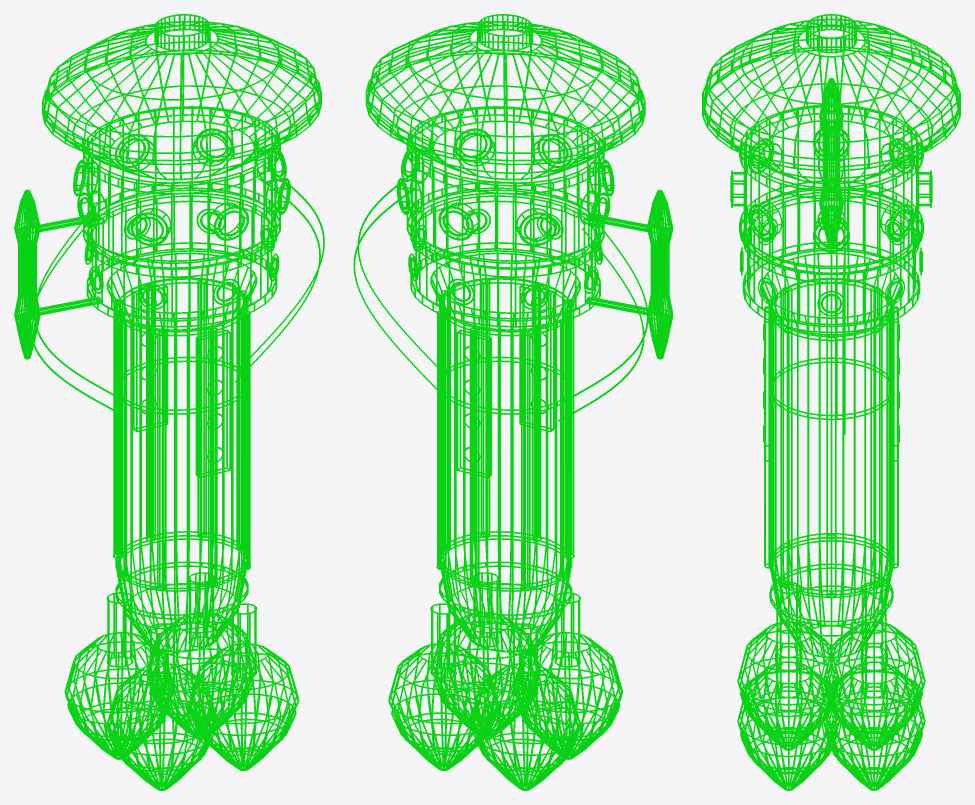
Rendered from mk2-deep-bore-mine-wireframe.glb.
3 renders of one model, left to right at view 1: azimuth 30°, elevation 25°; view 2: azimuth 150°, elevation 25°; view 3: azimuth 270°, elevation 25°, orthographic.
Visible parts, largest first — view 1: chassis technical wire, drill-assemblies technical wire, coolant-connectors technical wire, radio-seismic-probe technical wire; view 2: chassis technical wire, drill-assemblies technical wire, coolant-connectors technical wire, radio-seismic-probe technical wire; view 3: chassis technical wire, drill-assemblies technical wire, coolant-connectors technical wire, radio-seismic-probe technical wire.
Boxes of the visible parts, x1=… form: chassis technical wire: x1=30, y1=14, x2=324, y2=698; drill-assemblies technical wire: x1=64, y1=612, x2=299, y2=790; coolant-connectors technical wire: x1=73, y1=128, x2=290, y2=245; radio-seismic-probe technical wire: x1=14, y1=189, x2=40, y2=359; chassis technical wire: x1=353, y1=14, x2=651, y2=698; drill-assemblies technical wire: x1=388, y1=612, x2=622, y2=790; coolant-connectors technical wire: x1=396, y1=128, x2=614, y2=245; radio-seismic-probe technical wire: x1=646, y1=189, x2=673, y2=359; chassis technical wire: x1=702, y1=14, x2=960, y2=698; drill-assemblies technical wire: x1=737, y1=621, x2=925, y2=790; coolant-connectors technical wire: x1=730, y1=125, x2=932, y2=252; radio-seismic-probe technical wire: x1=819, y1=77, x2=843, y2=243.
Bounding box in the file's own units: 2.04 × 4.62 × 1.46.
